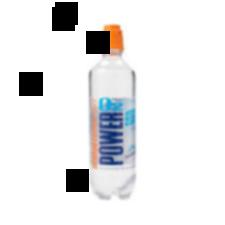powerO2_orange: (89, 19, 143, 202)
